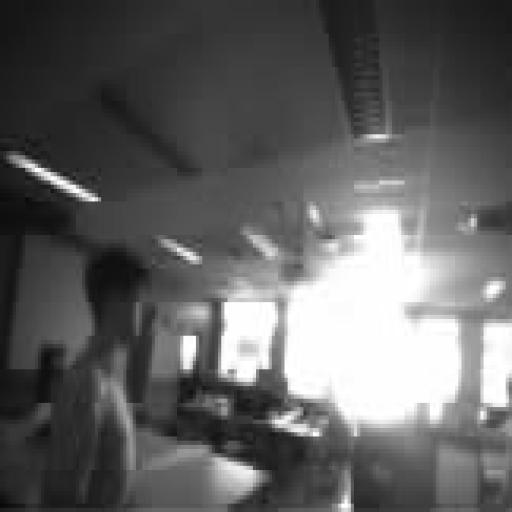human: (42, 248, 154, 507)
